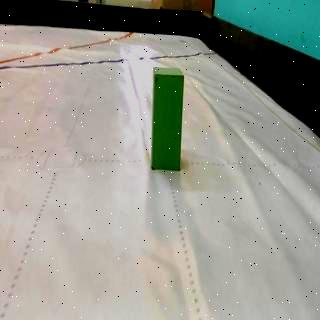greenbox: (152, 64, 186, 172)
